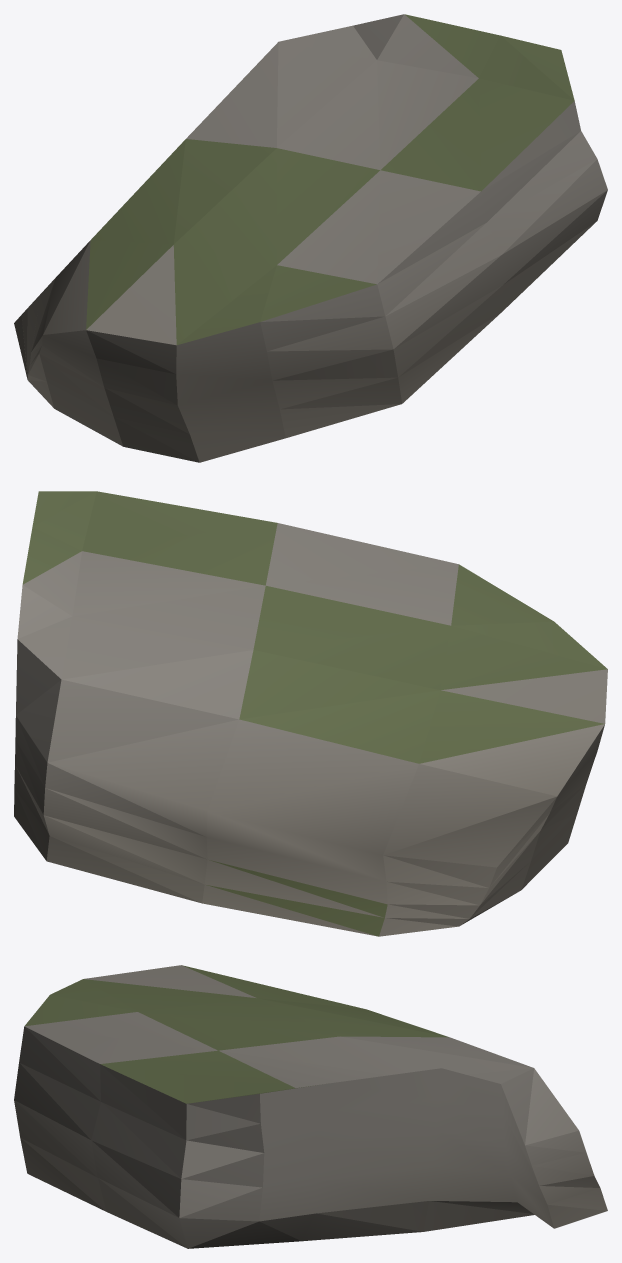
File: cave_fallen_slab.glb
3 renders of one model, top to bottom at view 1: azimuth 30°, elevation 25°; view 2: azimuth 150°, elevation 25°; view 3: azimuth 270°, elevation 25°, orthographic. The views are drawn at different scales.
Parts seen in each view (by area): view 1: cave_fallen_slab_LOD0; view 2: cave_fallen_slab_LOD0; view 3: cave_fallen_slab_LOD0.
Boxes of the visible parts, x1,y1,x2,y2 form: cave_fallen_slab_LOD0: (14, 14, 607, 462); cave_fallen_slab_LOD0: (14, 491, 607, 936); cave_fallen_slab_LOD0: (14, 965, 607, 1248).
Size of what is drawn, in the model's own units: 1.55 by 0.7412 by 1.45.
